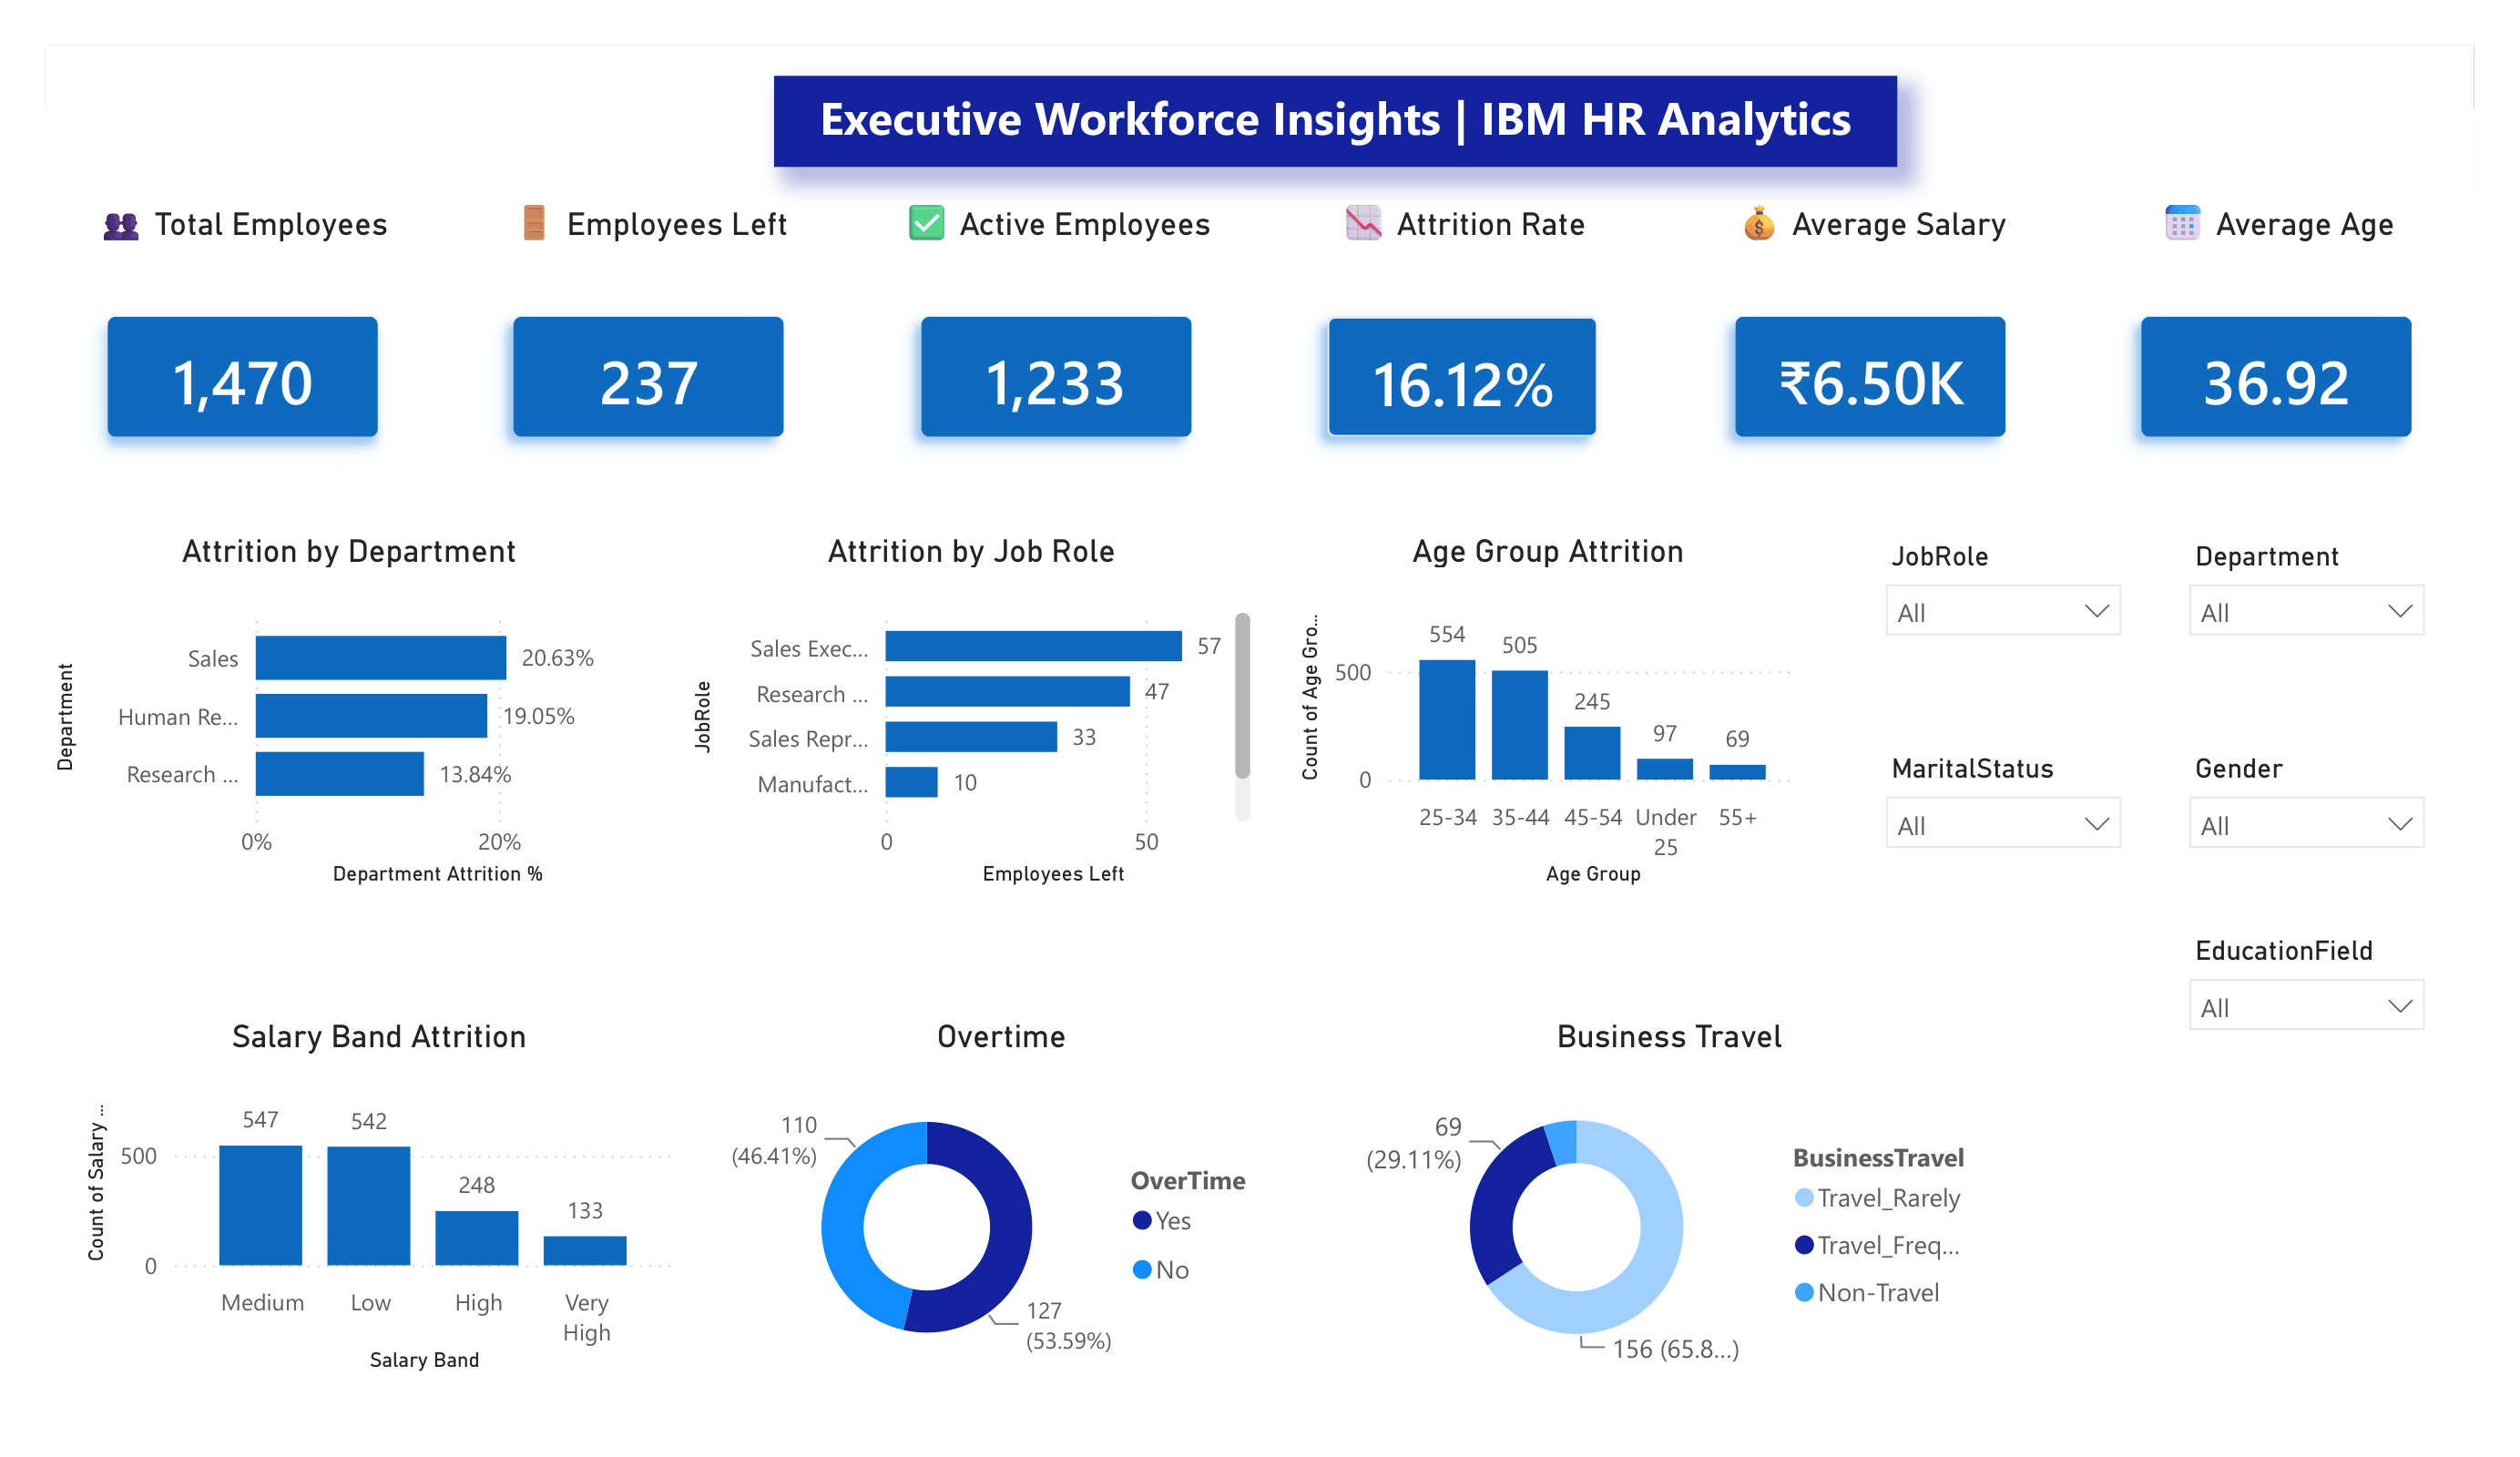

What the dashboard file says about the page in this screenshot:
{"tool":"powerbi","page":{"name":"Page 1","canvas":[1280,720],"ordinal":0},"visuals":[{"type":"cardVisual","title":"👥 Total Employees","fields":{"Data":["employee_attrition_clean.Total Employees Display"]},"box":[0,80,208,160],"z":0},{"type":"cardVisual","title":"📅 Average Age","fields":{"Data":["employee_attrition_clean.Average Age"]},"box":[1072,80,208,160],"z":1000},{"type":"cardVisual","title":"✅ Active Employees","fields":{"Data":["employee_attrition_clean.Active Employees"]},"box":[428.8,80,208,160],"z":2000},{"type":"cardVisual","title":"🚪 Employees Left","fields":{"Data":["employee_attrition_clean.Employees Left"]},"box":[214.4,80,208,160],"z":3000},{"type":"cardVisual","title":"📉 Attrition Rate","fields":{"Data":["employee_attrition_clean.Attrition Rate"]},"box":[643.2,80,208,160],"z":4000},{"type":"cardVisual","title":"💰 Average Salary","fields":{"Data":["employee_attrition_clean.Average Salary"]},"box":[857.6,80,208,160],"z":5000},{"type":"textbox","box":[384,16,592,48],"z":6000},{"type":"clusteredBarChart","title":"Attrition by Department","fields":{"Category":["employee_attrition_clean.Department"],"Y":["employee_attrition_clean.Department Attrition %"]},"box":[0,256,320,192],"z":7000},{"type":"barChart","title":"Attrition by Job Role","fields":{"Category":["employee_attrition_clean.JobRole"],"Y":["employee_attrition_clean.Employees Left"]},"box":[336,256,304,192],"z":8000},{"type":"columnChart","title":"Age Group Attrition","fields":{"Category":["employee_attrition_clean.Age Group"],"Y":["CountNonNull(employee_attrition_clean.Age Group)"]},"box":[656,256,272,192],"z":9000},{"type":"columnChart","title":"Salary Band Attrition","fields":{"Y":["CountNonNull(employee_attrition_clean.Salary Band)"],"Category":["employee_attrition_clean.Salary Band"]},"box":[16,512,320,192],"z":10000},{"type":"donutChart","title":"Overtime","fields":{"Category":["employee_attrition_clean.OverTime"],"Y":["employee_attrition_clean.Employees Left"]},"box":[352,512,304,192],"z":11000},{"type":"donutChart","title":"Business Travel","fields":{"Category":["employee_attrition_clean.BusinessTravel"],"Y":["employee_attrition_clean.Employees Left"]},"box":[688,512,336,192],"z":12000},{"type":"slicer","fields":{"Values":["employee_attrition_clean.Department"]},"box":[1120,256,144,96],"z":13000},{"type":"slicer","fields":{"Values":["employee_attrition_clean.JobRole"]},"box":[960,256,144,96],"z":14000},{"type":"slicer","fields":{"Values":["employee_attrition_clean.MaritalStatus"]},"box":[960,368,144,96],"z":15000},{"type":"slicer","fields":{"Values":["employee_attrition_clean.EducationField"]},"box":[1120,464,144,96],"z":16000},{"type":"slicer","fields":{"Values":["employee_attrition_clean.Gender"]},"box":[1120,368,144,96],"z":17000}]}

Visuals, with their boxes on the page's 1280x720 design canvas (x1, y1, x2, y2). These are canvas units, not pixel positions in the 2520x1457 screenshot, which may show the page scaled, cropped or inside an application window:
"👥 Total Employees" cardVisual: [left=0, top=80, right=208, bottom=240]
"📅 Average Age" cardVisual: [left=1072, top=80, right=1280, bottom=240]
"✅ Active Employees" cardVisual: [left=429, top=80, right=637, bottom=240]
"🚪 Employees Left" cardVisual: [left=214, top=80, right=422, bottom=240]
"📉 Attrition Rate" cardVisual: [left=643, top=80, right=851, bottom=240]
"💰 Average Salary" cardVisual: [left=858, top=80, right=1066, bottom=240]
textbox: [left=384, top=16, right=976, bottom=64]
"Attrition by Department" clusteredBarChart: [left=0, top=256, right=320, bottom=448]
"Attrition by Job Role" barChart: [left=336, top=256, right=640, bottom=448]
"Age Group Attrition" columnChart: [left=656, top=256, right=928, bottom=448]
"Salary Band Attrition" columnChart: [left=16, top=512, right=336, bottom=704]
"Overtime" donutChart: [left=352, top=512, right=656, bottom=704]
"Business Travel" donutChart: [left=688, top=512, right=1024, bottom=704]
slicer - employee_attrition_clean.Department: [left=1120, top=256, right=1264, bottom=352]
slicer - employee_attrition_clean.JobRole: [left=960, top=256, right=1104, bottom=352]
slicer - employee_attrition_clean.MaritalStatus: [left=960, top=368, right=1104, bottom=464]
slicer - employee_attrition_clean.EducationField: [left=1120, top=464, right=1264, bottom=560]
slicer - employee_attrition_clean.Gender: [left=1120, top=368, right=1264, bottom=464]
